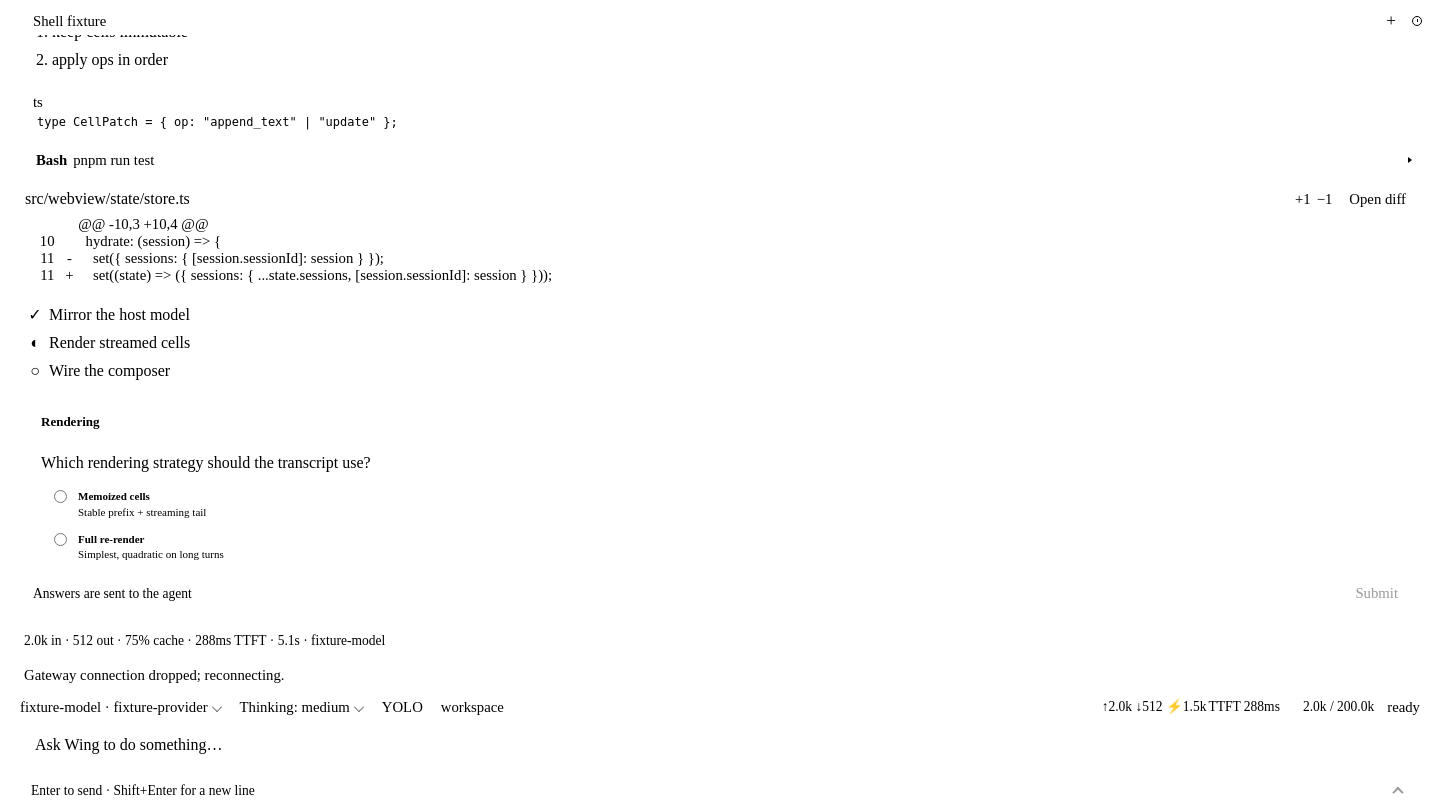
Test case: submission routing › /think refuses an unknown argument (no intent, keeps the draft, explains)
(page scrolled)
Type "/think bogus" into the dropdown with test id "composer-input".
click(720, 751); type("/think bogus")  # box [31, 727, 1409, 775]
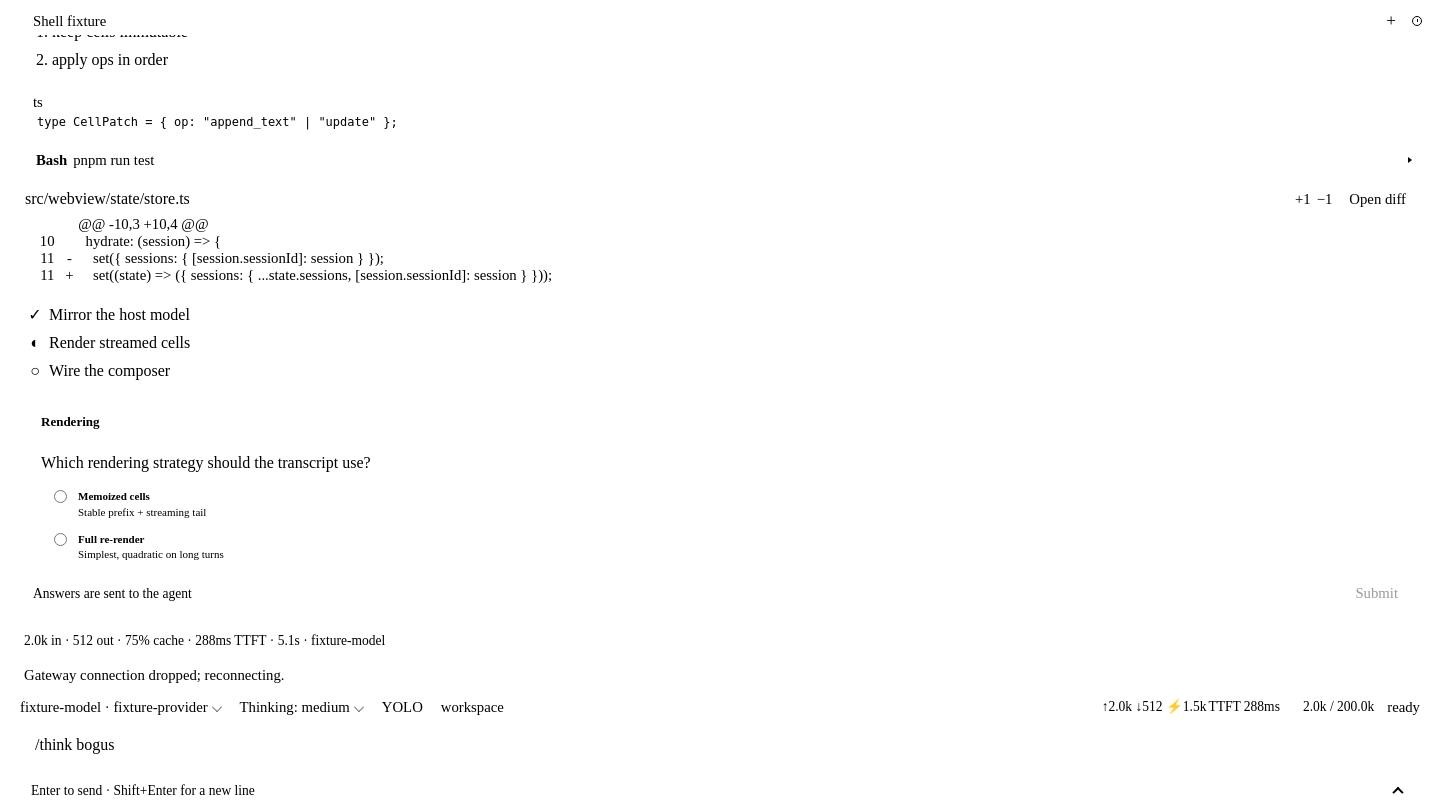
Press Enter in the dropdown with test id "composer-input", box [31, 727, 1409, 775]
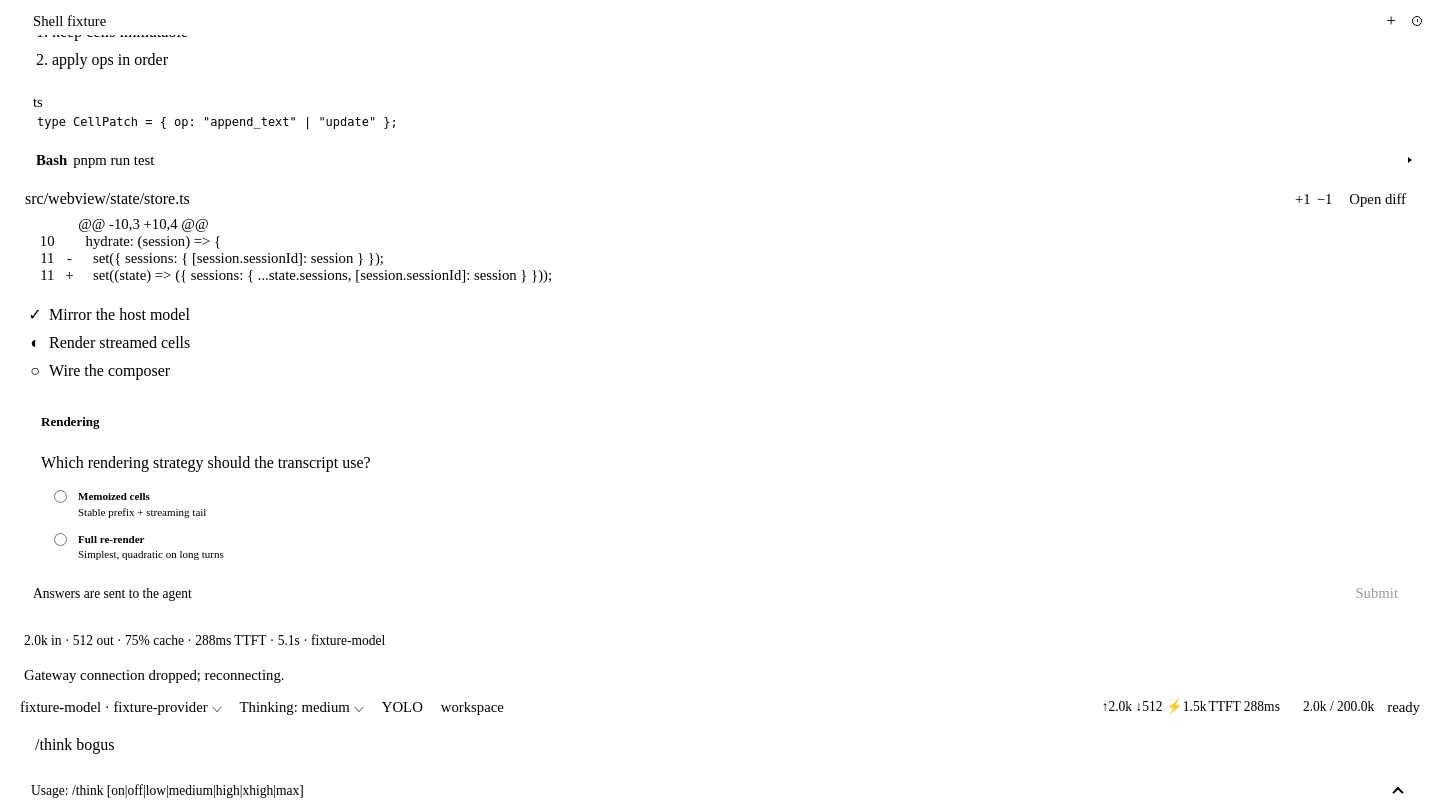
Check: the text with test id "composer-hint" shows "Usage: /think", box [31, 783, 304, 798]
